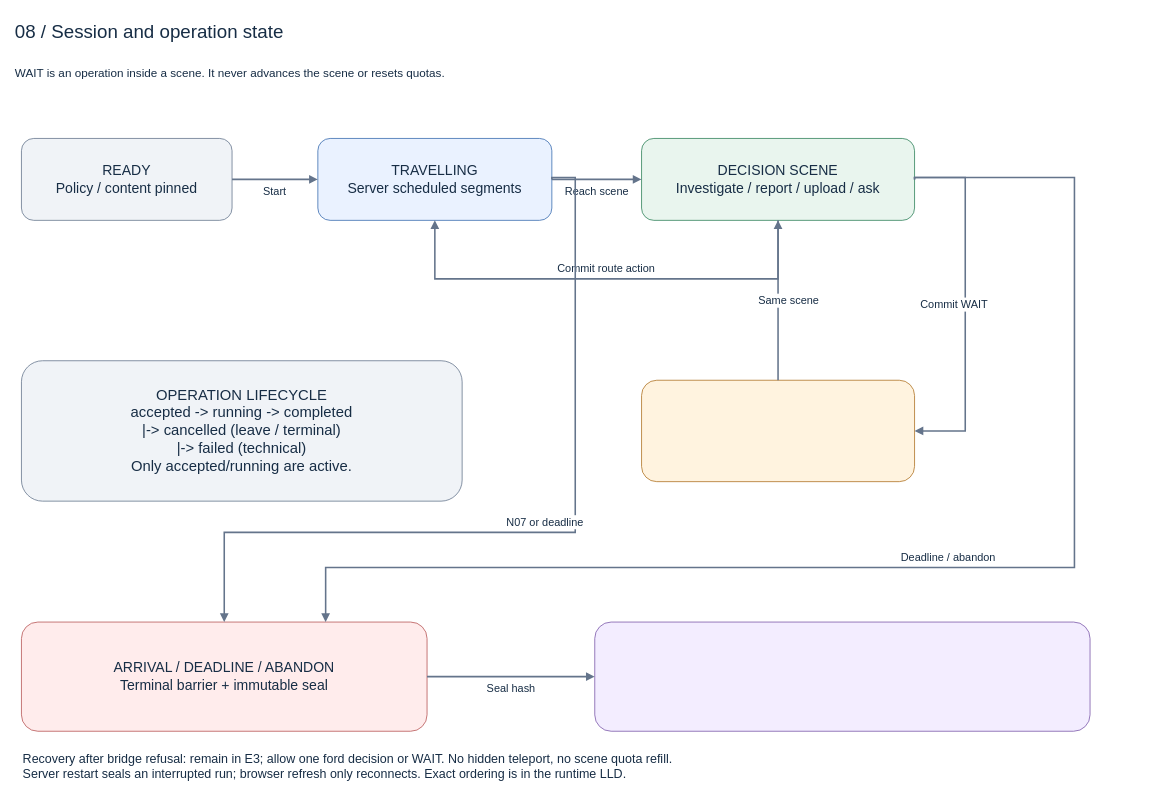
Some shapes in this 1158 by 803 pixel diagram are drawn without their labels. The shapes that lost their labels are listed below. From the top down, each one's centre as x and y in pixels, then its label:
point (778, 430): WAIT OPERATION 15 / 30 / 60 seconds Investigations may complete
point (842, 676): EVALUATING -> REPORT READY Retries cannot change sealed state
